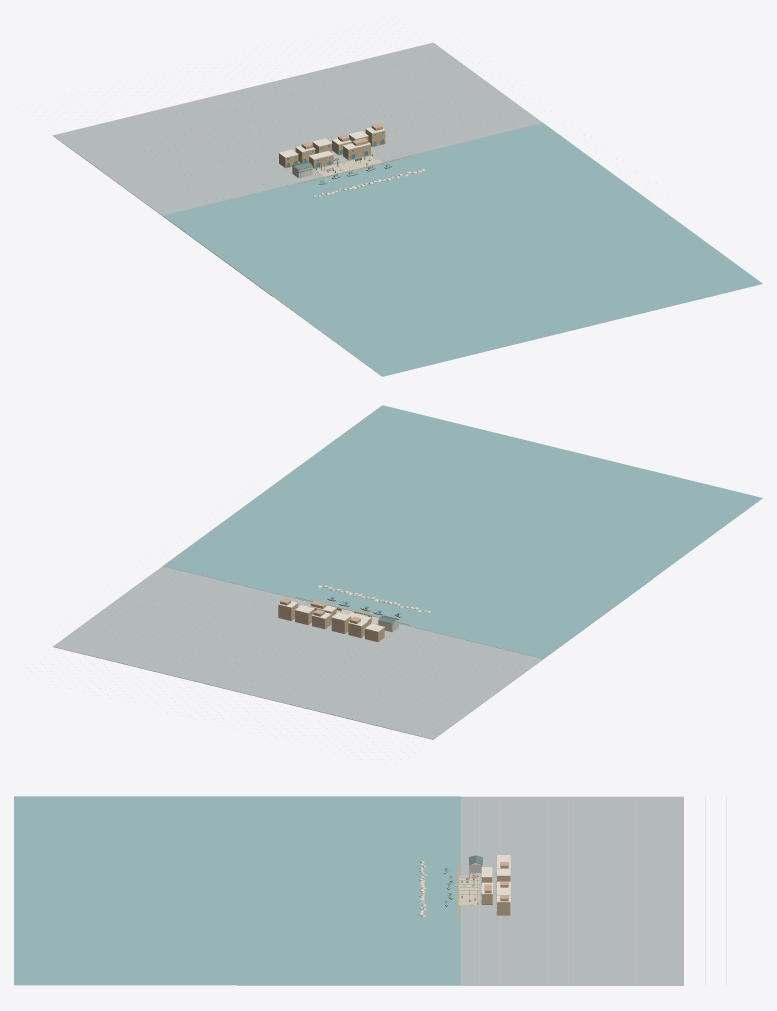
The model's file is room.glb.
The picture shows the model from 3 angles, top to bottom: view 1: azimuth 30°, elevation 25°; view 2: azimuth 150°, elevation 25°; view 3: azimuth 270°, elevation 25°; orthographic projection.
Parts seen in each view (by area): view 1: Campaign_water, Campaign_surrounding concrete, Campaign_harbor stone, Campaign_cream, Campaign_stone; view 2: Campaign_water, Campaign_surrounding concrete, Campaign_harbor stone, Campaign_cream, Campaign_stone; view 3: Campaign_water, Campaign_surrounding concrete, Campaign_stone, Campaign_cream, Campaign_harbor stone, Campaign_paving.
Part boxes in pixels (x1=…): Campaign_water: x1=163, y1=123, x2=762, y2=376; Campaign_surrounding concrete: x1=52, y1=42, x2=542, y2=296; Campaign_harbor stone: x1=279, y1=126, x2=412, y2=183; Campaign_cream: x1=279, y1=127, x2=391, y2=183; Campaign_stone: x1=130, y1=44, x2=527, y2=198; Campaign_water: x1=163, y1=405, x2=762, y2=658; Campaign_surrounding concrete: x1=53, y1=566, x2=652, y2=739; Campaign_harbor stone: x1=278, y1=597, x2=409, y2=641; Campaign_cream: x1=278, y1=598, x2=401, y2=631; Campaign_stone: x1=58, y1=572, x2=474, y2=727; Campaign_water: x1=14, y1=796, x2=460, y2=985; Campaign_surrounding concrete: x1=237, y1=796, x2=683, y2=985; Campaign_stone: x1=418, y1=797, x2=726, y2=984; Campaign_cream: x1=443, y1=855, x2=510, y2=905; Campaign_harbor stone: x1=458, y1=861, x2=510, y2=919; Campaign_paving: x1=459, y1=876, x2=478, y2=905.
Bounding box in the file's own units: 144 × 6.28 × 228.
